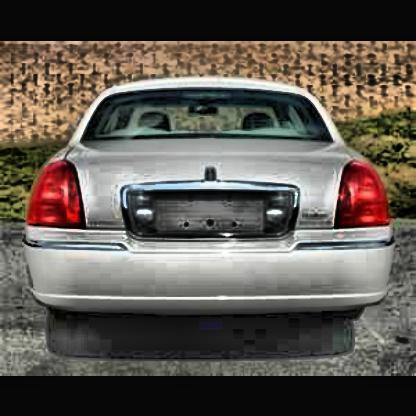Lincoln Town Car Sedan 2011: (24, 76, 403, 339)
